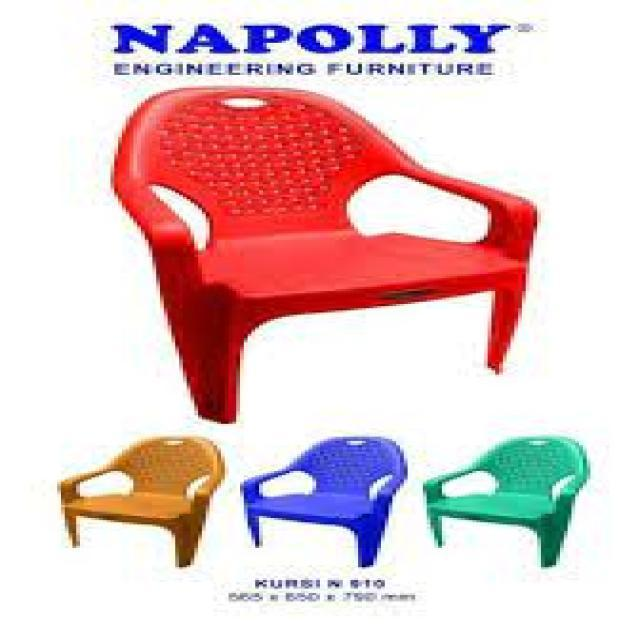chair: (109, 84, 537, 422), (238, 428, 406, 570), (54, 430, 222, 570), (429, 438, 588, 570)
